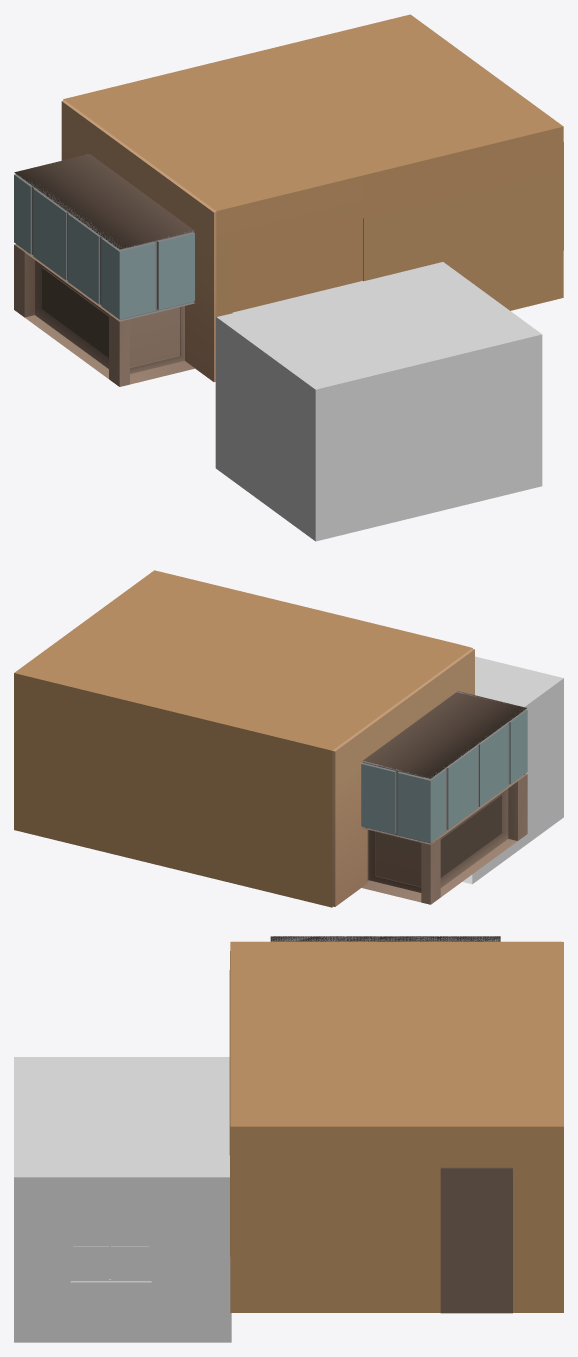
File: Room Old new (1).fbx
3 renders of one model, top to bottom at view 1: azimuth 30°, elevation 25°; view 2: azimuth 150°, elevation 25°; view 3: azimuth 270°, elevation 25°, orthographic. The views are drawn at different scales.
Visible parts, largest first — view 1: Cube.018, Cube.021, Cube.015, Old; view 2: Cube.018, Cube.015, Old, Cube.021; view 3: Cube.018, Cube.021, Cube.016, Cube.015.
Boxes of the visible parts, box(x1,y1,x2,y2) form: Cube.018: box(63, 14, 563, 316); Cube.021: box(215, 262, 542, 541); Cube.015: box(14, 154, 195, 386); Old: box(61, 100, 216, 381); Cube.018: box(14, 570, 472, 907); Cube.015: box(361, 691, 527, 904); Old: box(332, 648, 474, 906); Cube.021: box(462, 656, 563, 884); Cube.018: box(229, 942, 563, 1312); Cube.021: box(14, 1057, 231, 1342); Cube.016: box(440, 1167, 512, 1313); Cube.015: box(270, 936, 500, 941).
Bounding box in the file's own units: 19598 × 11294 × 20063.
